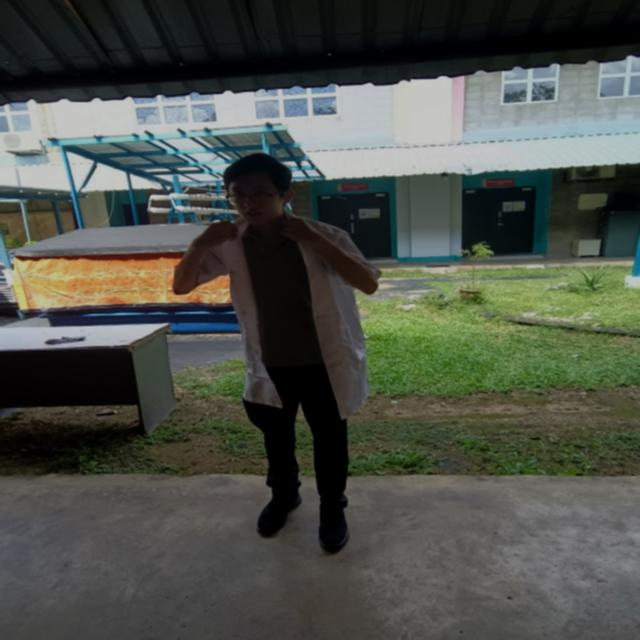person_with_labcoat: (173, 154, 379, 550)
